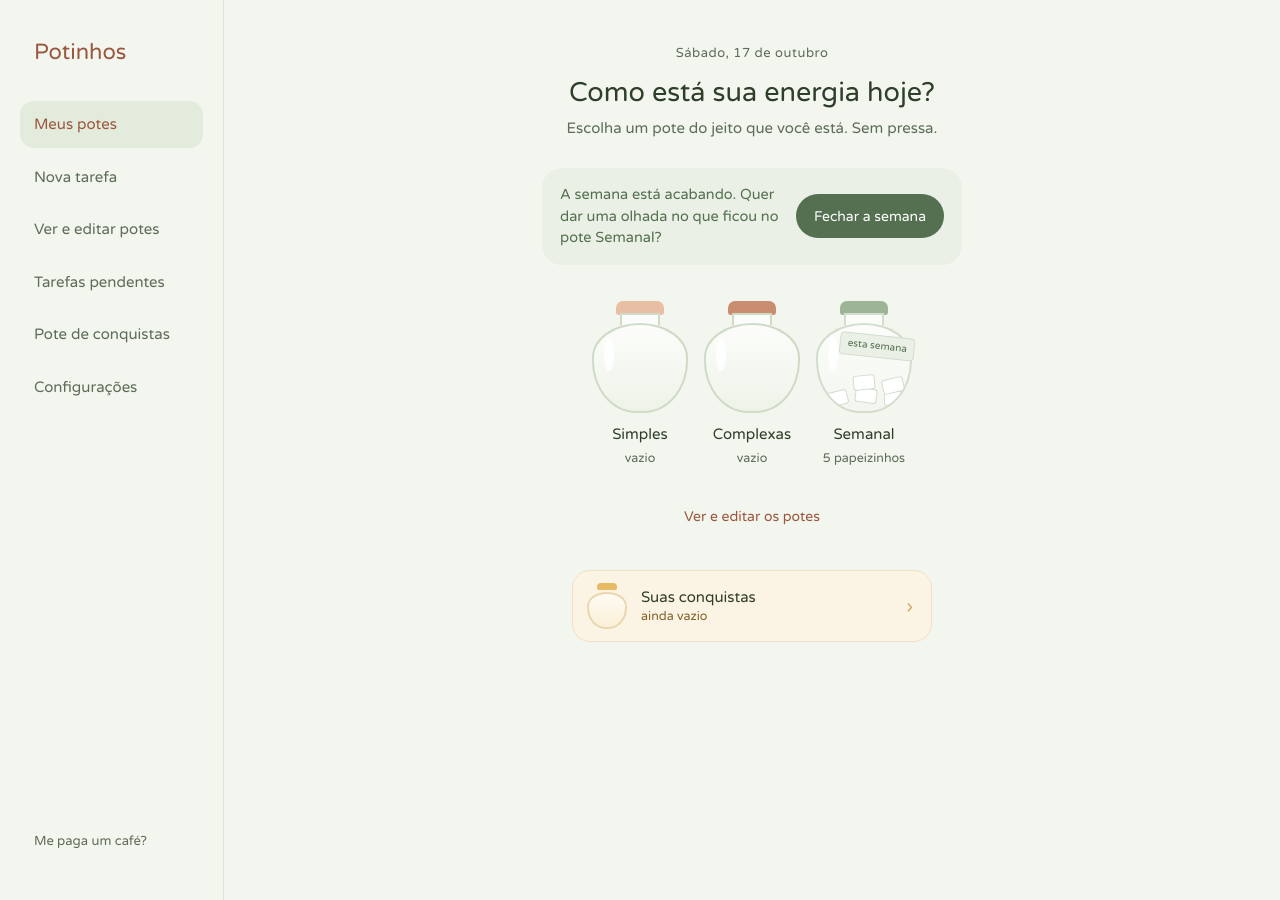
Test: Weekend › lists the leftovers, with no count, and carries them by default
Check: the heading "Como está sua energia hoje?" is shown, box top-left (569, 76), bottom-right (935, 108)
Click the button "Fechar a semana" at x=870, y=216, box top-left (796, 194), bottom-right (944, 238)
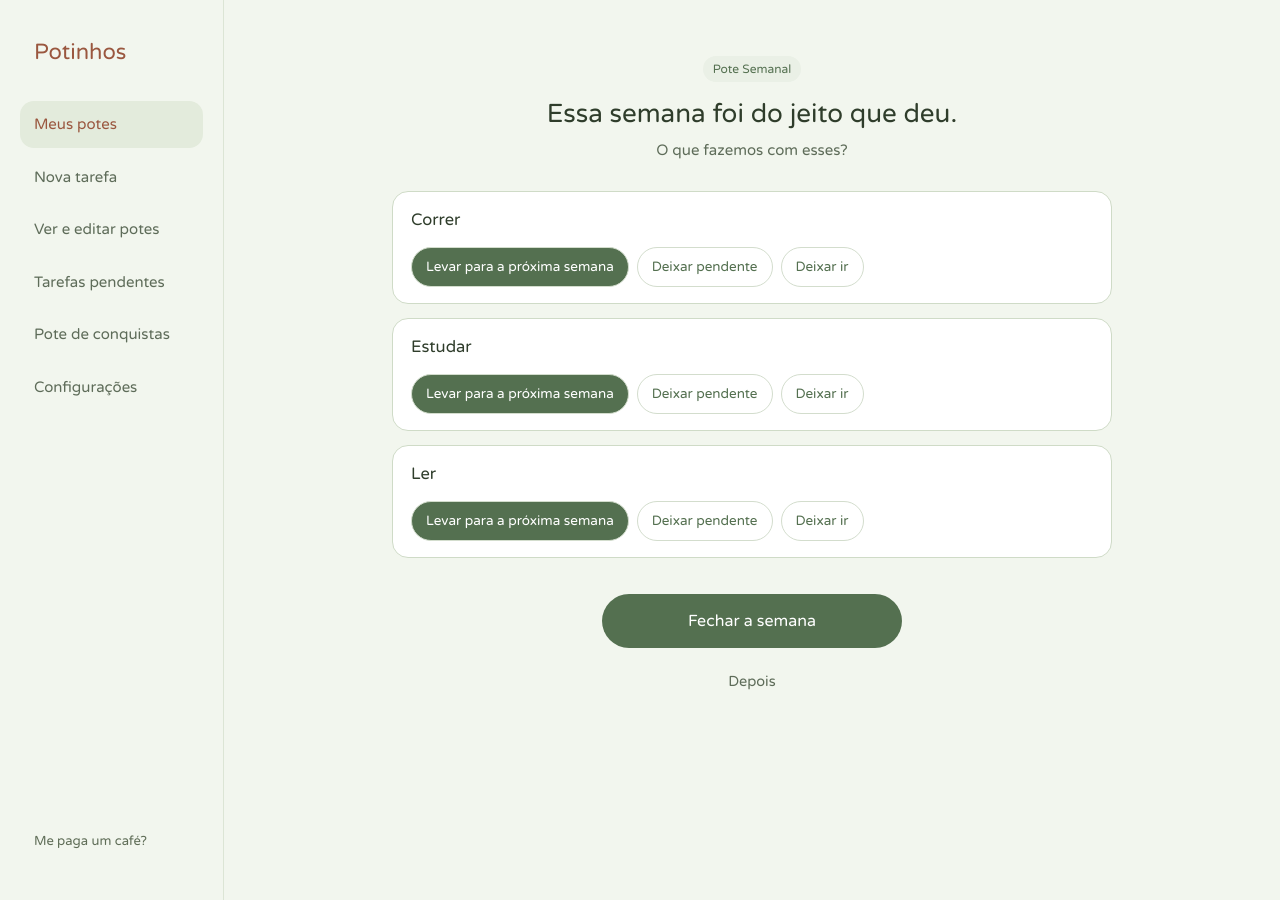
Check: the text "Pote Semanal" is shown, box top-left (703, 56), bottom-right (801, 82)
Check: the heading "Essa semana foi do jeito que deu." is shown, box top-left (547, 98), bottom-right (957, 129)
Check: the text "Correr" is shown, box top-left (411, 210), bottom-right (460, 230)
